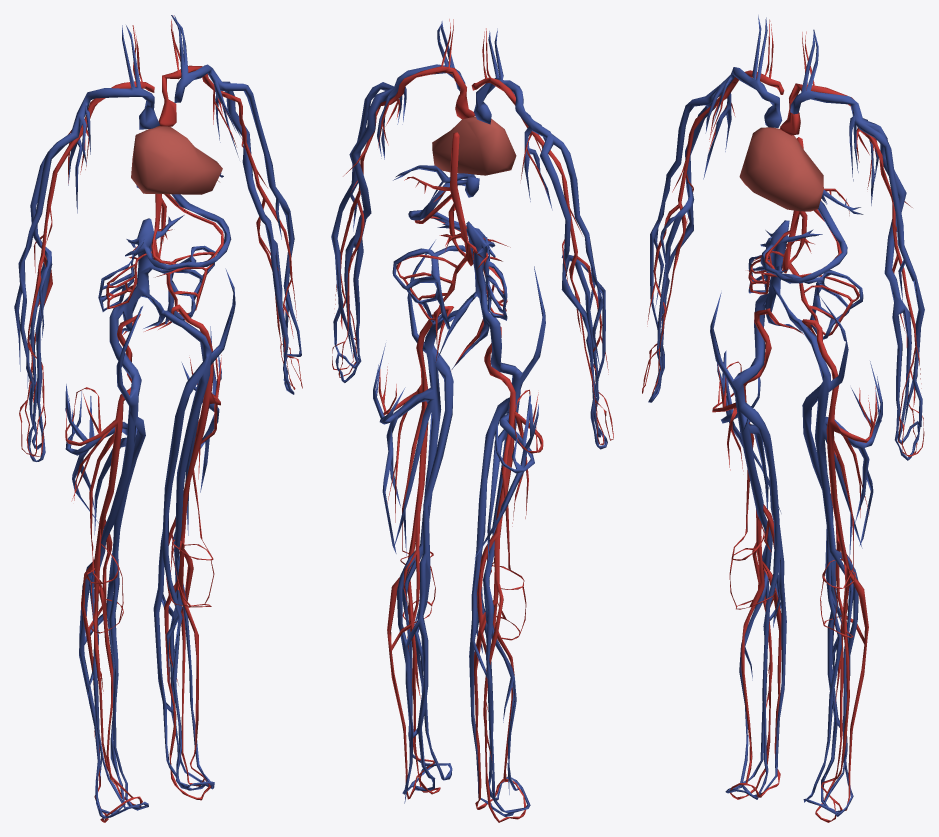
The model's file is pediatric_child_5y_male.cardiovascular.LOD3.glb.
The picture shows the model from 3 angles, left to right: view 1: azimuth 30°, elevation 25°; view 2: azimuth 150°, elevation 25°; view 3: azimuth 330°, elevation 25°; orthographic projection.
Visible parts, largest first — view 1: PEDIATRIC.CHILD_5Y.MALE.CARDIOVASCULAR.BLOOD_IN_LARGE_VEINS, PEDIATRIC.CHILD_5Y.MALE.CARDIOVASCULAR.BLOOD_IN_LARGE_ARTERI, PEDIATRIC.CHILD_5Y.MALE.CARDIOVASCULAR.HEART_WALL; view 2: PEDIATRIC.CHILD_5Y.MALE.CARDIOVASCULAR.BLOOD_IN_LARGE_VEINS, PEDIATRIC.CHILD_5Y.MALE.CARDIOVASCULAR.BLOOD_IN_LARGE_ARTERI, PEDIATRIC.CHILD_5Y.MALE.CARDIOVASCULAR.HEART_WALL; view 3: PEDIATRIC.CHILD_5Y.MALE.CARDIOVASCULAR.BLOOD_IN_LARGE_VEINS, PEDIATRIC.CHILD_5Y.MALE.CARDIOVASCULAR.BLOOD_IN_LARGE_ARTERI, PEDIATRIC.CHILD_5Y.MALE.CARDIOVASCULAR.HEART_WALL.
Boxes of the visible parts, x1=… form: PEDIATRIC.CHILD_5Y.MALE.CARDIOVASCULAR.BLOOD_IN_LARGE_VEINS: x1=14, y1=15, x2=301, y2=818; PEDIATRIC.CHILD_5Y.MALE.CARDIOVASCULAR.BLOOD_IN_LARGE_ARTERI: x1=19, y1=15, x2=302, y2=822; PEDIATRIC.CHILD_5Y.MALE.CARDIOVASCULAR.HEART_WALL: x1=131, y1=125, x2=222, y2=194; PEDIATRIC.CHILD_5Y.MALE.CARDIOVASCULAR.BLOOD_IN_LARGE_VEINS: x1=331, y1=21, x2=607, y2=816; PEDIATRIC.CHILD_5Y.MALE.CARDIOVASCULAR.BLOOD_IN_LARGE_ARTERI: x1=332, y1=19, x2=613, y2=822; PEDIATRIC.CHILD_5Y.MALE.CARDIOVASCULAR.HEART_WALL: x1=432, y1=117, x2=516, y2=175; PEDIATRIC.CHILD_5Y.MALE.CARDIOVASCULAR.BLOOD_IN_LARGE_VEINS: x1=648, y1=15, x2=924, y2=816; PEDIATRIC.CHILD_5Y.MALE.CARDIOVASCULAR.BLOOD_IN_LARGE_ARTERI: x1=642, y1=19, x2=924, y2=822; PEDIATRIC.CHILD_5Y.MALE.CARDIOVASCULAR.HEART_WALL: x1=739, y1=127, x2=823, y2=211.
Bounding box in the file's own units: 0.3474 × 0.9436 × 0.1181.
